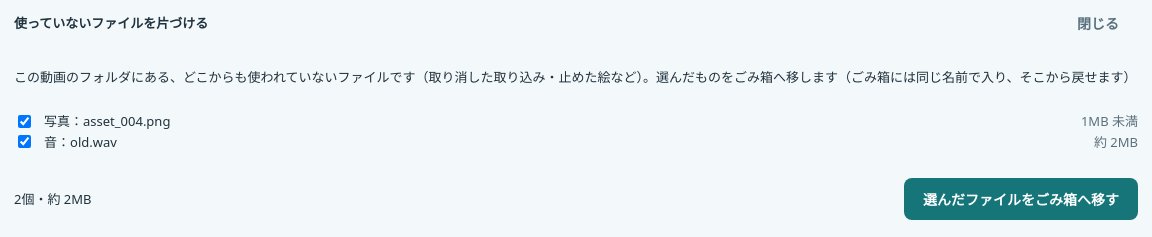
Test: UnusedFilesPanel › チェックを外したものは移さない（選んだものだけ・画面の内容も渡す）
The width and height of the screenshot is (1152, 237).
Click the checkbox labelled "音：old.wav 約 2MB". click: click(24, 142)
box: [18,136,31,148]
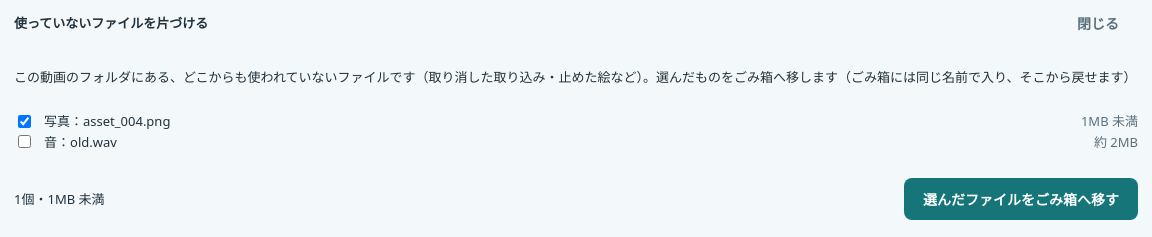
Click the button "選んだファイルをごみ箱へ移す". click: click(1021, 199)
box: [904,178,1138,220]
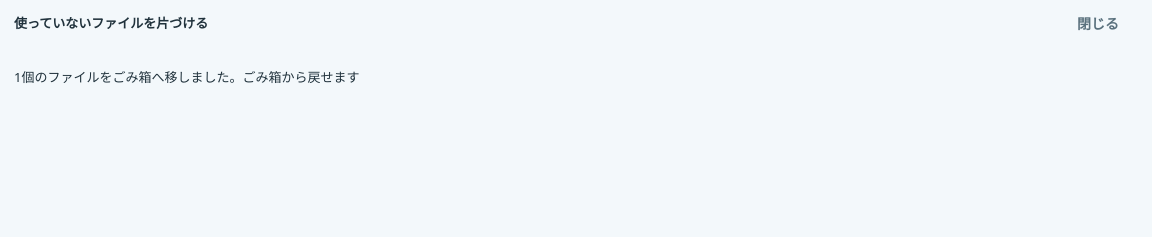
Expected: the text "1個のファイルをごみ箱へ移しました。ごみ箱から戻せます" is shown, [14,68,359,86]
